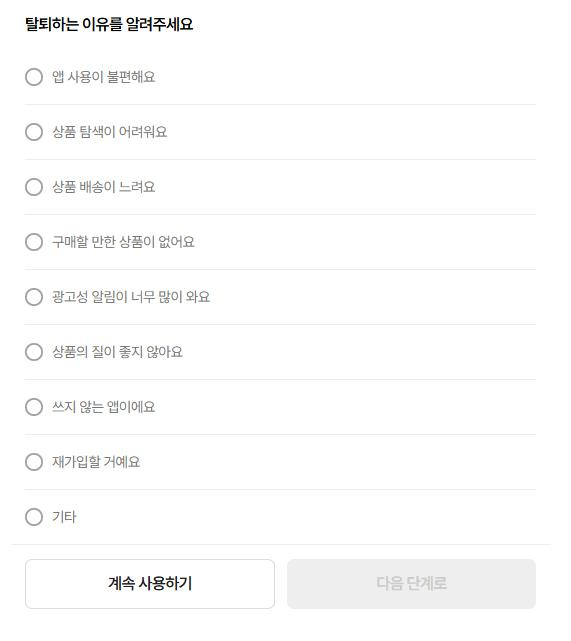button: (24, 557, 276, 609), (286, 559, 537, 610)
checkbox: (16, 331, 232, 371), (19, 384, 205, 429), (15, 277, 227, 316), (12, 447, 201, 485), (16, 222, 208, 258), (16, 164, 173, 206), (17, 111, 183, 150), (16, 56, 177, 96), (15, 499, 168, 541)
